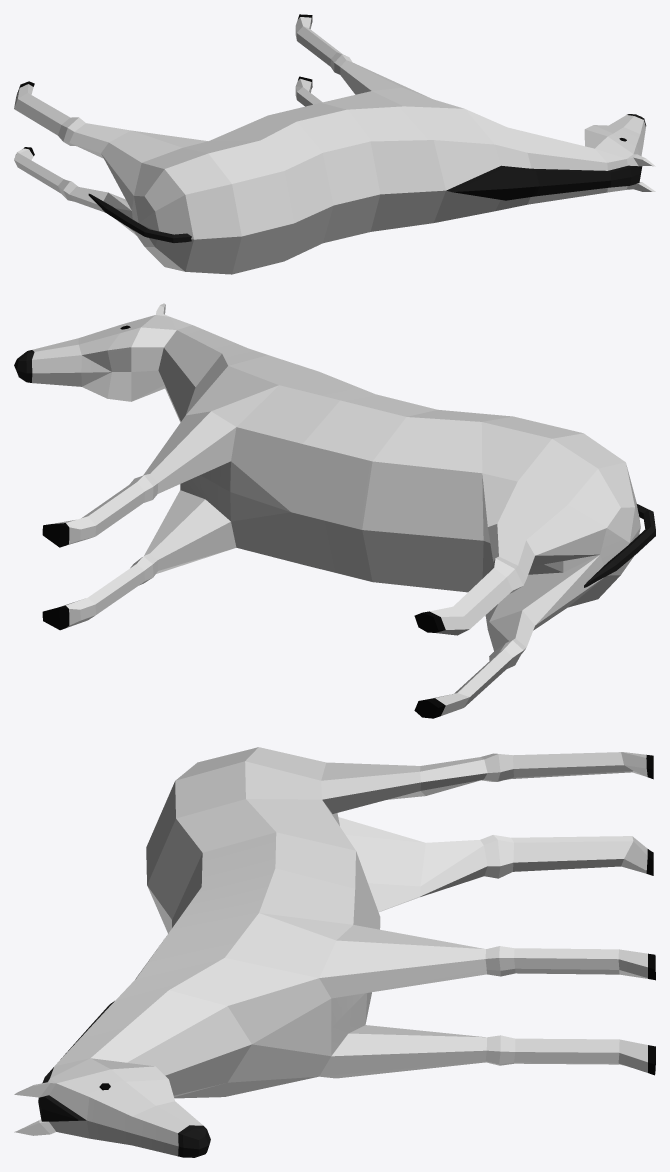
The model's file is Horse.glb.
3 renders of one model, top to bottom at view 1: azimuth 30°, elevation 25°; view 2: azimuth 150°, elevation 25°; view 3: azimuth 270°, elevation 25°, orthographic. The views are drawn at different scales.
Parts seen in each view (by area): view 1: Horse; view 2: Horse; view 3: Horse.
Part boxes in pixels (<box>): Horse: <box>14,14,655,274</box>; Horse: <box>14,303,655,718</box>; Horse: <box>14,747,655,1157</box>.
Bounding box in the file's own units: 2.52 × 0.57 × 1.92.
1 material, 1 textured.
